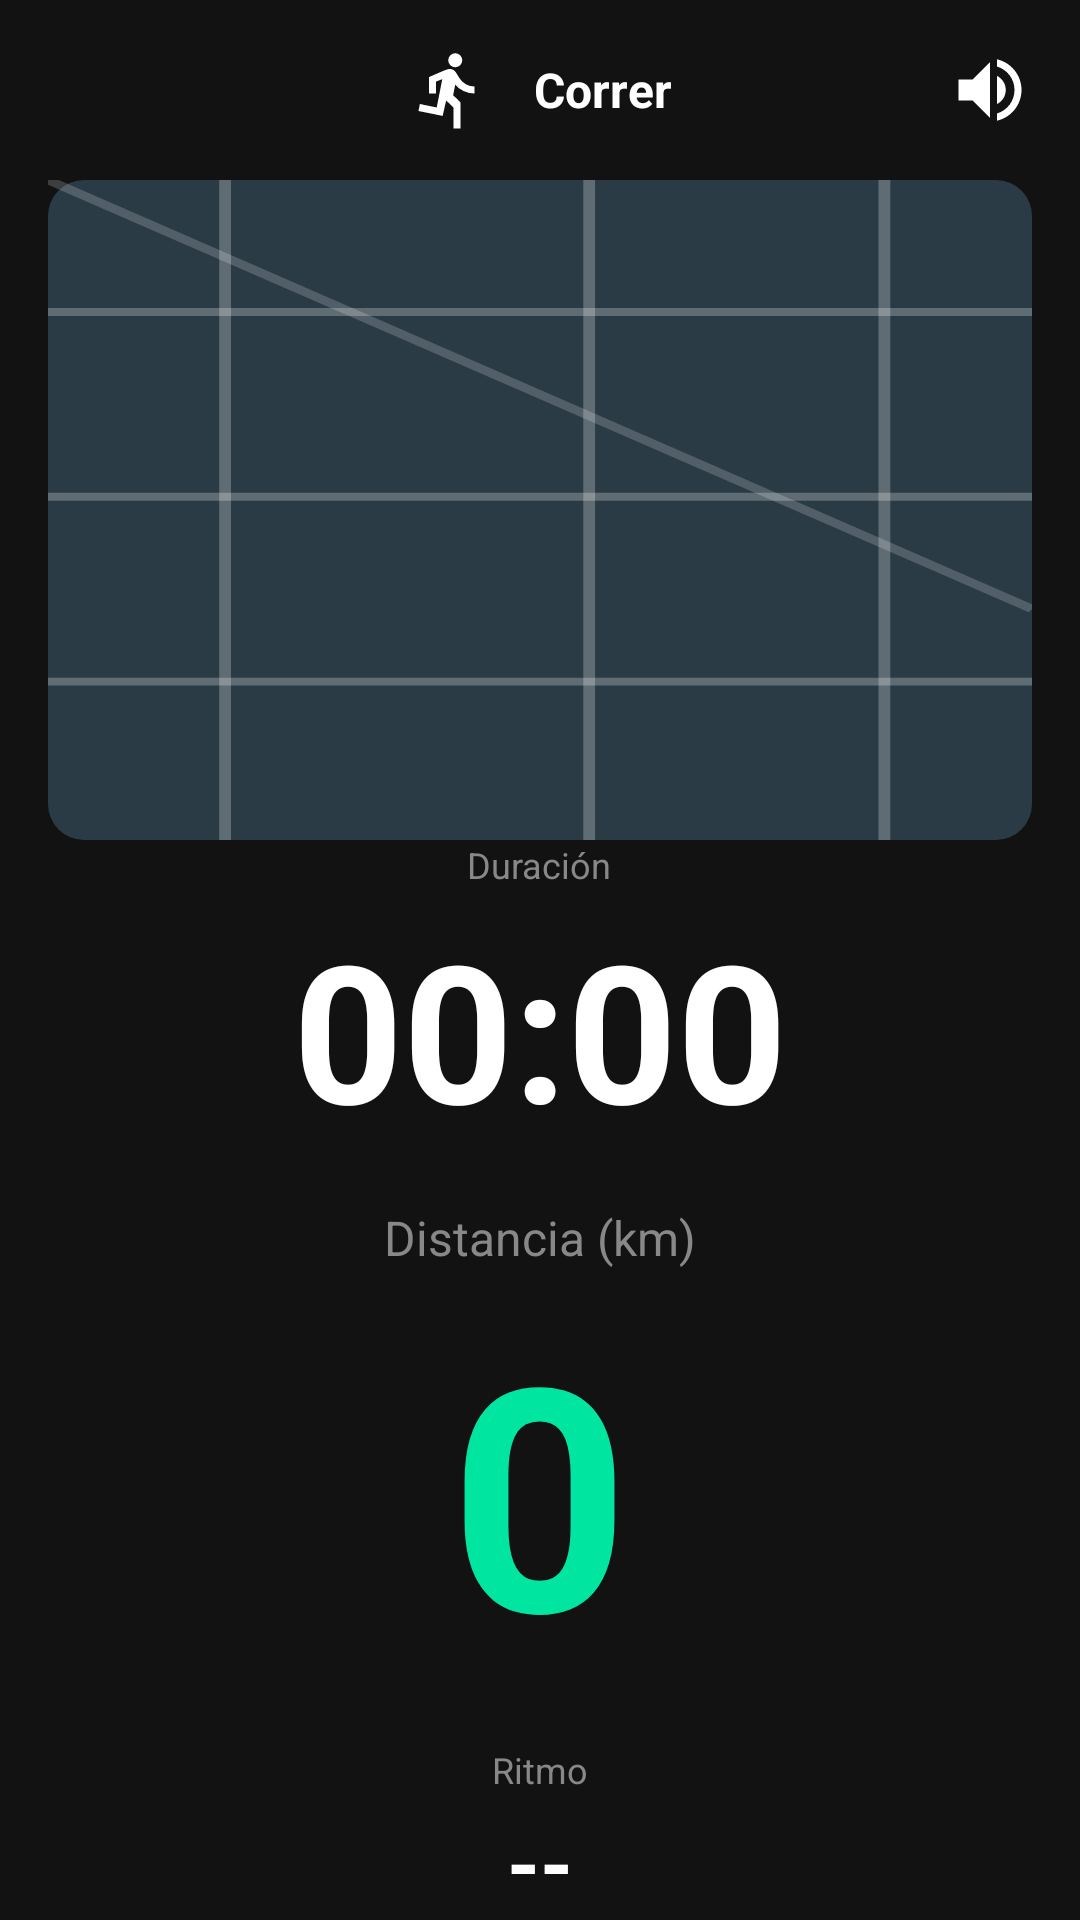

Icons on this 1080w x 1920h Android screen, each with its box as (x1, y1, x2, y2):
directions run: (418, 53, 475, 129)
volume up: (958, 59, 1022, 121)
